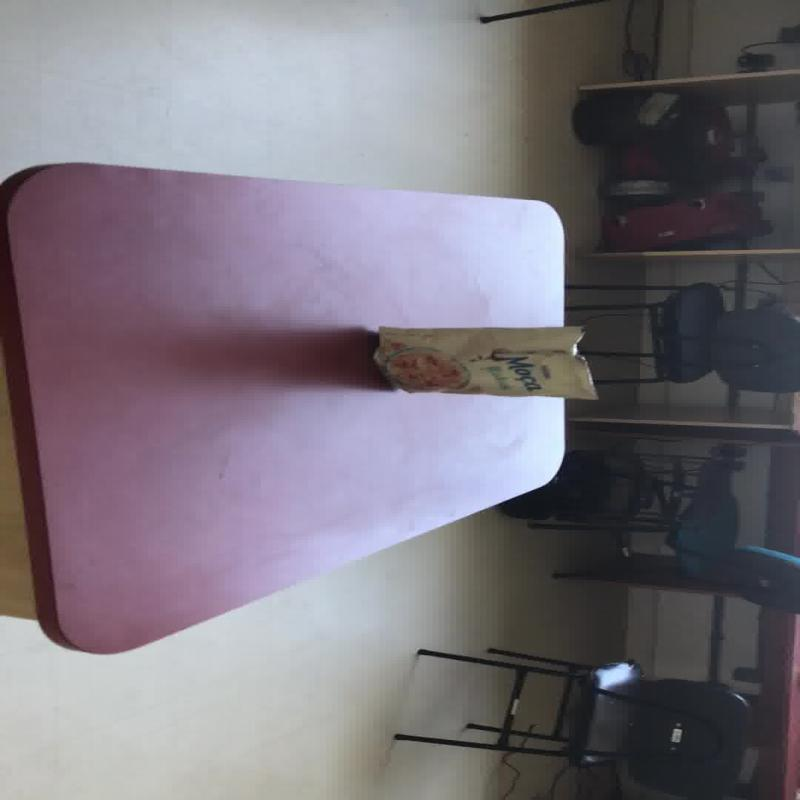corn flakes: (2, 160, 579, 653), (371, 324, 598, 400)
